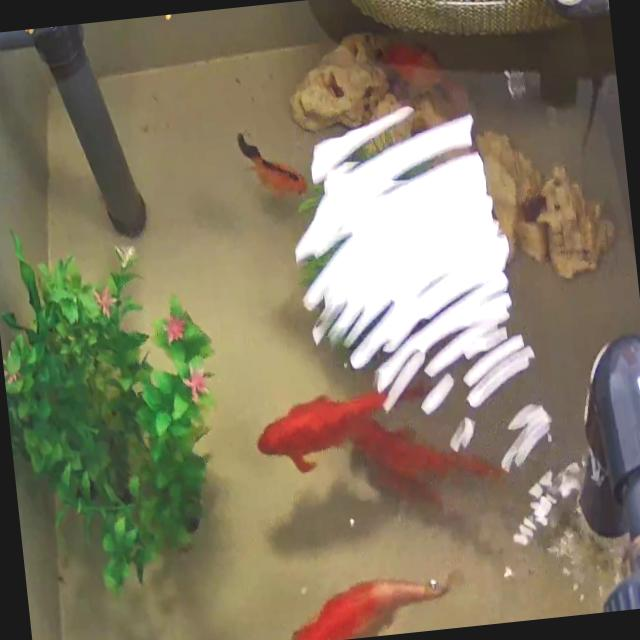fish: (238, 545, 462, 640), (228, 378, 438, 464), (344, 414, 494, 514), (377, 33, 486, 132), (225, 125, 318, 203)
